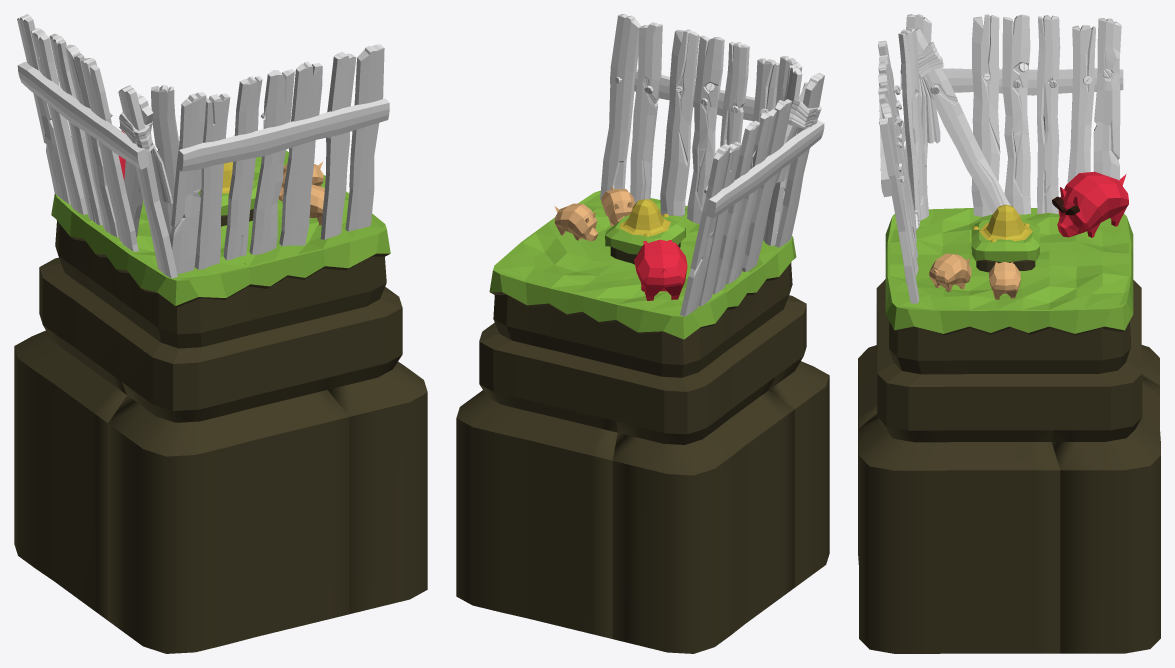
File: oats.fbx
3 views of the same model, side by side, from view 1: azimuth 30°, elevation 25°; view 2: azimuth 150°, elevation 25°; view 3: azimuth 270°, elevation 25° (orthographic). The views are drawn at different scales.
Visible parts, largest first — view 1: Cube.002, FenceBar.001, FenceItem_2.001, FenceItem_1.001, FenceItem_4.001, FenceItem_7.001, FenceItem_5.001, FenceItem_3.001, FenceItem_6.001, FenceBar, FenceItem_2, FenceItem_1 (+8 smaller); view 2: Cube.002, FenceItem_2.001, FenceItem_1.001, FenceItem_3.001, FenceItem_4.001, FenceBar, Cube.016, FenceItem_7, FenceItem_5.001, FenceItem_2, FenceItem_4, FenceItem_1 (+11 smaller); view 3: Cube.002, FenceItem_4, FenceItem_2, FenceItem_5, FenceItem_7, FenceItem_3, FenceItem_5.002, Cube.016, FenceItem_6, Cube, FenceItem_1.001, FenceBar (+12 smaller).
Boxes of the visible parts, <box> form: Cube.002: <box>14,150,427,653</box>; FenceBar.001: <box>177,98,389,171</box>; FenceItem_2.001: <box>279,61,322,246</box>; FenceItem_1.001: <box>345,44,384,231</box>; FenceItem_4.001: <box>249,69,294,254</box>; FenceItem_7.001: <box>169,92,206,274</box>; FenceItem_5.001: <box>223,76,262,260</box>; FenceItem_3.001: <box>320,51,356,239</box>; FenceItem_6.001: <box>194,93,230,269</box>; FenceBar: <box>17,61,148,169</box>; FenceItem_2: <box>81,58,138,251</box>; FenceItem_1: <box>118,85,177,278</box>; Cube.002: <box>456,190,829,653</box>; FenceItem_2.001: <box>660,29,699,216</box>; FenceItem_1.001: <box>600,14,640,199</box>; FenceItem_3.001: <box>630,22,662,203</box>; FenceItem_4.001: <box>687,35,724,223</box>; FenceBar: <box>705,120,824,218</box>; Cube.016: <box>634,239,687,300</box>; FenceItem_7: <box>680,144,730,317</box>; FenceItem_5.001: <box>720,42,749,146</box>; FenceItem_2: <box>742,99,792,271</box>; FenceItem_4: <box>726,109,776,283</box>; FenceItem_1: <box>775,72,824,247</box>; Cube.002: <box>858,208,1160,653</box>; FenceItem_4: <box>1002,14,1030,214</box>; FenceItem_2: <box>971,14,1000,216</box>; FenceItem_5: <box>1037,15,1060,213</box>; FenceItem_7: <box>1093,18,1121,180</box>; FenceItem_3: <box>915,28,1010,213</box>; FenceItem_5.002: <box>898,28,928,220</box>; Cube.016: <box>1057,171,1128,237</box>; FenceItem_6: <box>1067,25,1095,183</box>; Cube: <box>971,219,1039,272</box>; FenceItem_1.001: <box>879,117,919,303</box>; FenceBar: <box>900,68,1123,95</box>.
Size of the model in its own units: 432 by 788 by 423.
